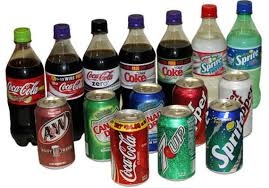can: (81, 77, 118, 171), (203, 98, 246, 177), (109, 109, 150, 188), (34, 97, 73, 168), (159, 112, 198, 182)
